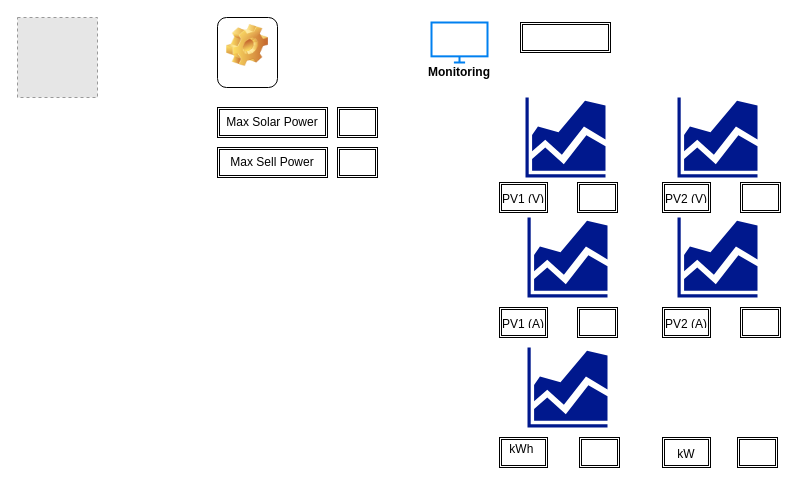
This 798x485 diagram has some shape labels left out. Grey dashed boxes stand in for pictures. Each missing label, with the centre of its shape:
"Setting" goes at (x=247, y=52).
"time(hh:mm)" goes at (x=565, y=37).
